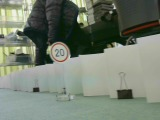speed_20: (48, 42, 69, 63)
